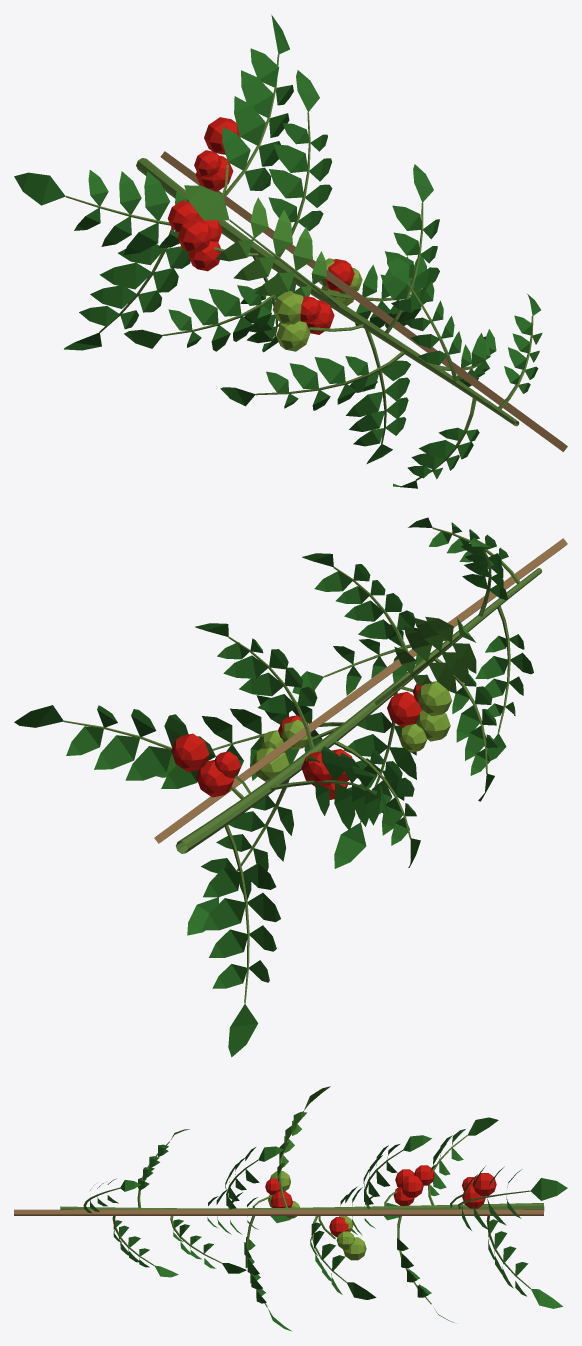
The model's file is tomato_02.obj.
3 views of the same model, one above another, from view 1: azimuth 30°, elevation 25°; view 2: azimuth 150°, elevation 25°; view 3: azimuth 270°, elevation 25° (orthographic). The views are drawn at different scales.
Parts seen in each view (by area): view 1: tomato_02; view 2: tomato_02; view 3: tomato_02.
Boxes of the visible parts, <box> form: tomato_02: <box>14,14,567,488</box>; tomato_02: <box>14,517,567,1057</box>; tomato_02: <box>14,1086,567,1331</box>.
Bounding box in the file's own units: 0.6364 × 0.6062 × 1.43.
